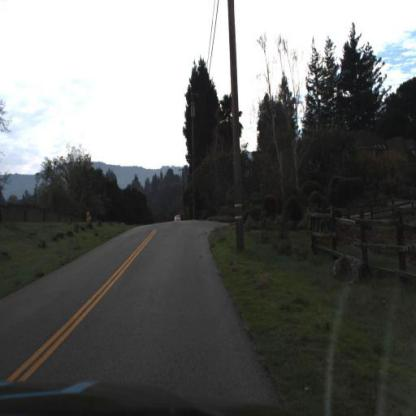car: (171, 211, 186, 228), (174, 212, 183, 224)
